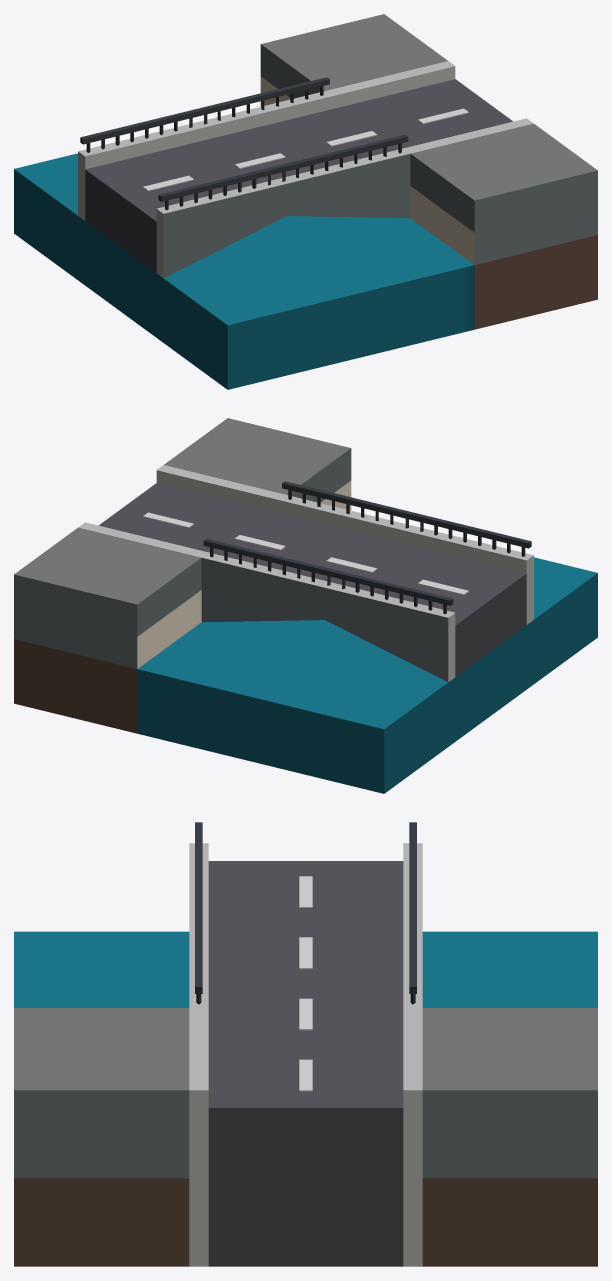
The model's file is TB_CITY_Road_Bridge.FBX.
3 views of the same model, one above another, from view 1: azimuth 30°, elevation 25°; view 2: azimuth 150°, elevation 25°; view 3: azimuth 270°, elevation 25° (orthographic). The views are drawn at different scales.
Visible parts, largest first — view 1: TB_CITY_Road_Bridge; view 2: TB_CITY_Road_Bridge; view 3: TB_CITY_Road_Bridge.
Boxes of the visible parts, x1,y1,x2,y2 form: TB_CITY_Road_Bridge: [14, 14, 597, 389]; TB_CITY_Road_Bridge: [14, 418, 597, 793]; TB_CITY_Road_Bridge: [14, 822, 597, 1266].
Size of the model in its own units: 30 by 11.2 by 30.
